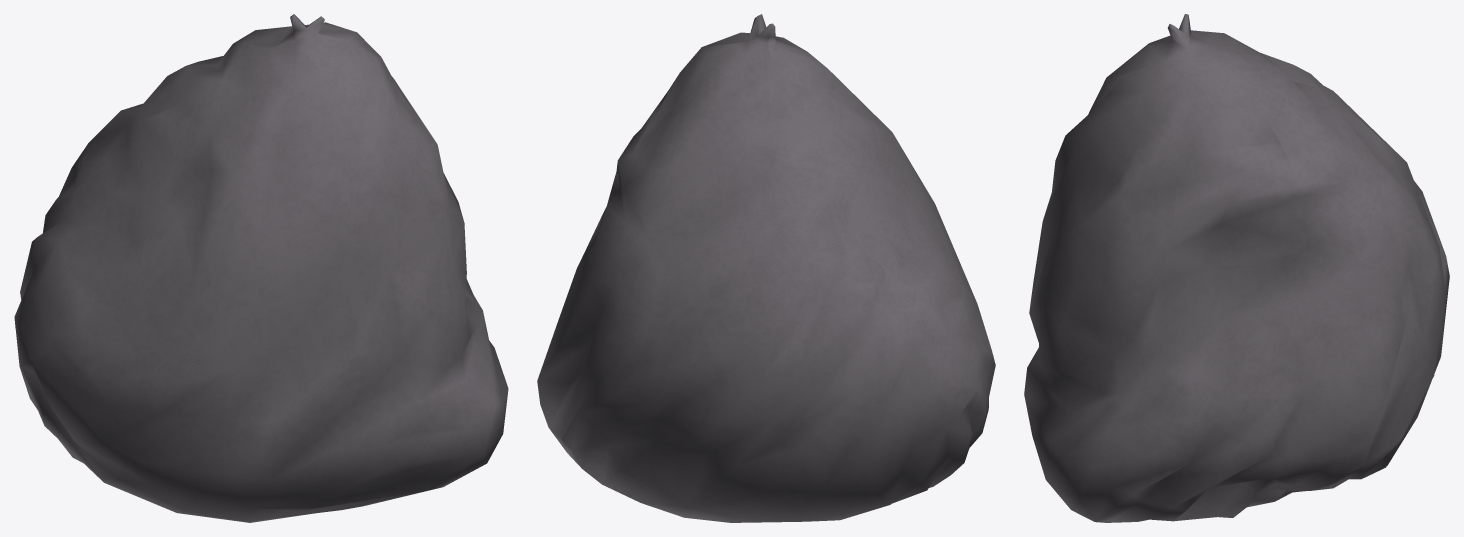
3 renders of one model, left to right at view 1: azimuth 30°, elevation 25°; view 2: azimuth 150°, elevation 25°; view 3: azimuth 270°, elevation 25°, orthographic. The views are drawn at different scales.
Visible parts, largest first — view 1: SM_trashbag_Prefab__2_; view 2: SM_trashbag_Prefab__2_; view 3: SM_trashbag_Prefab__2_.
Part boxes in pixels (x1,y1,x2,y2): SM_trashbag_Prefab__2_: [14, 14, 508, 522]; SM_trashbag_Prefab__2_: [537, 14, 995, 522]; SM_trashbag_Prefab__2_: [1024, 14, 1449, 522].
Bounding box in the file's own units: 99.7 × 109 × 88.96.
